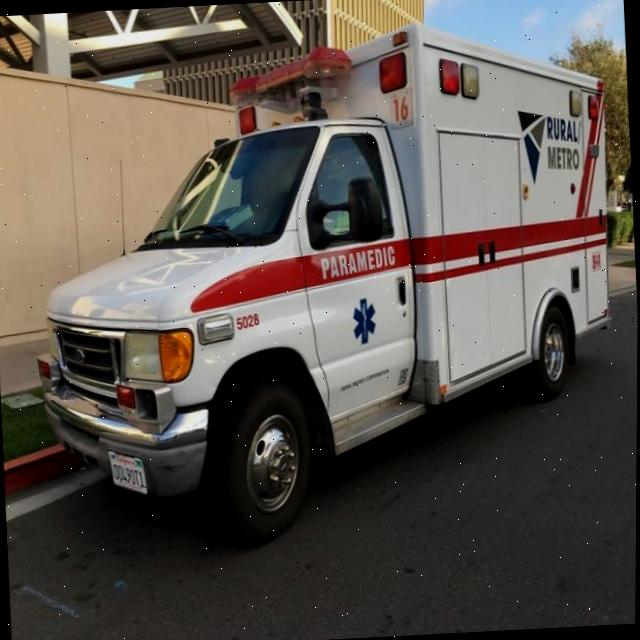emergency: (25, 19, 448, 555)
